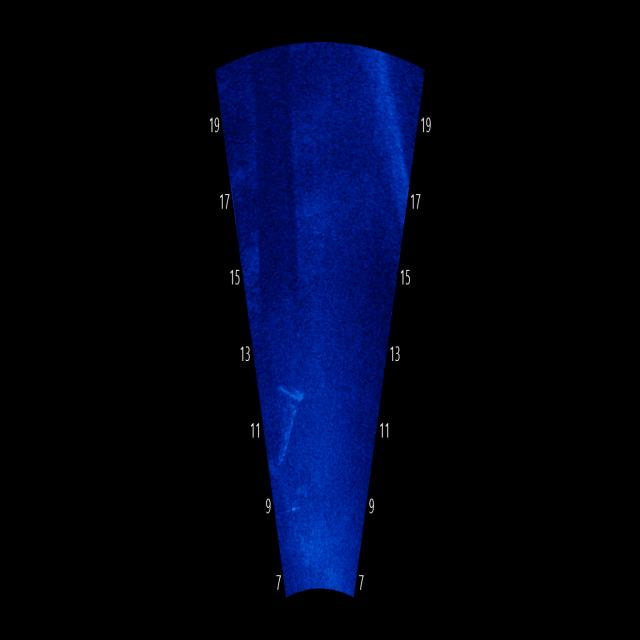triangle: (269, 374, 305, 482)
